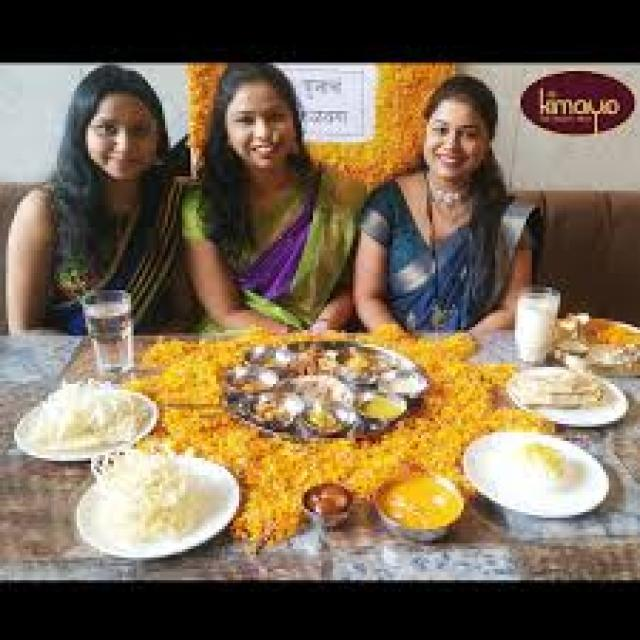curd: (460, 425, 614, 524)
dal: (553, 311, 636, 376)
papad: (80, 450, 233, 564), (12, 383, 154, 465)
pickle: (74, 84, 181, 176)
raita: (381, 234, 433, 298)
rice: (81, 451, 235, 563)
roti: (605, 399, 640, 492)
